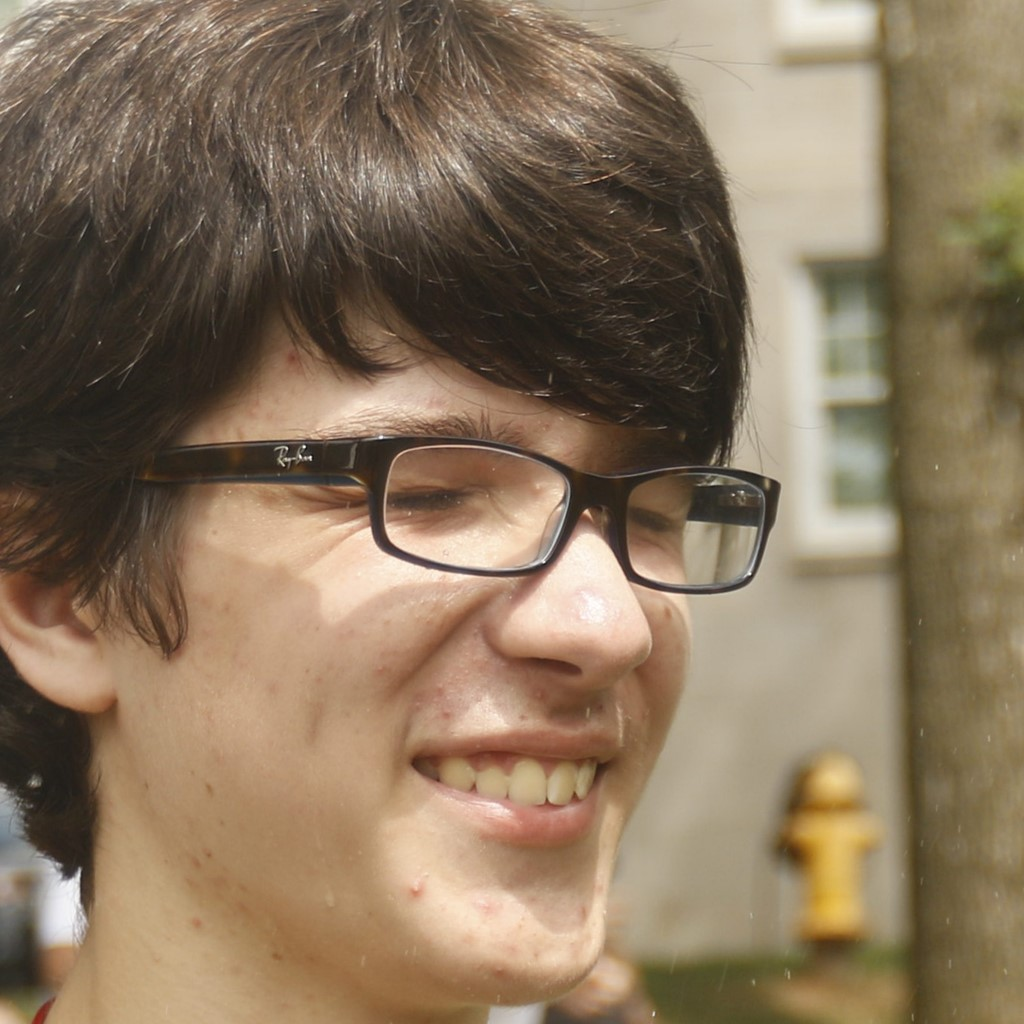sin_mascara: (69, 75, 696, 997)
